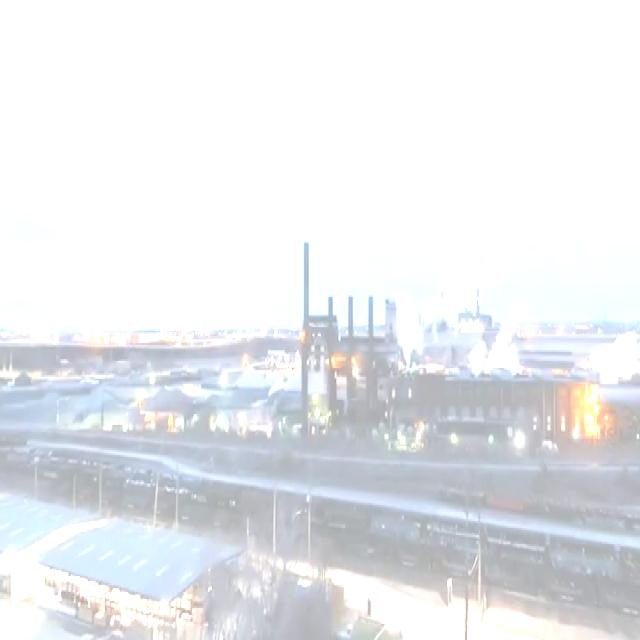smoke: (366, 279, 480, 354), (449, 322, 528, 380)
